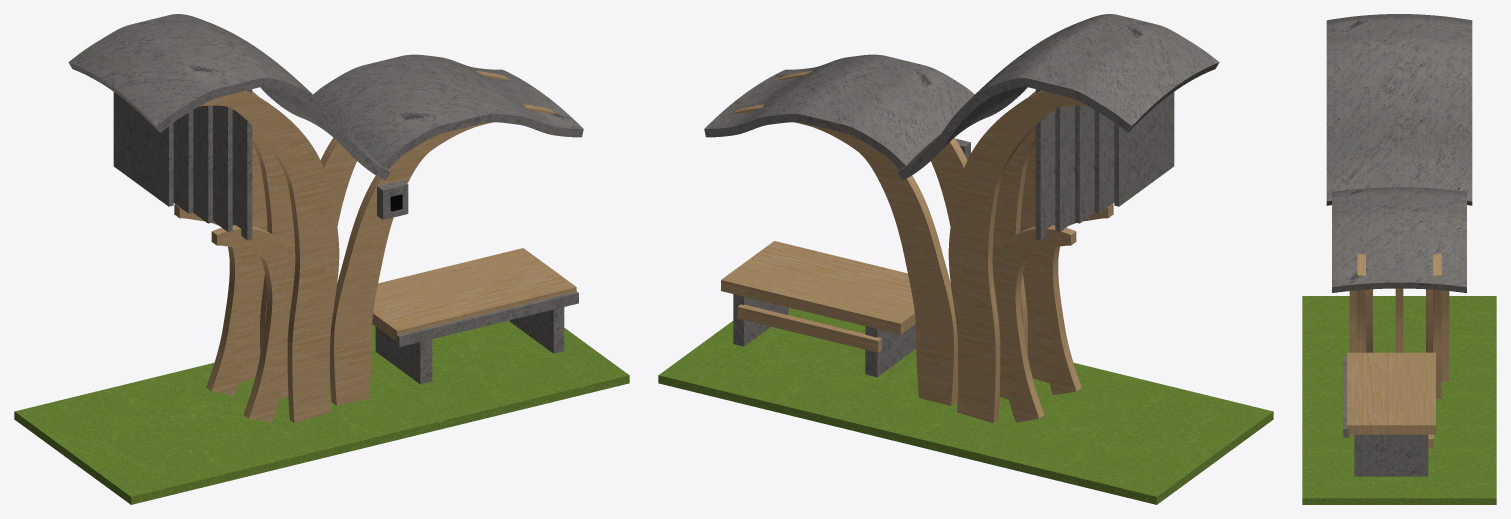
Rendered from SemaModel.glb.
3 renders of one model, left to right at view 1: azimuth 30°, elevation 25°; view 2: azimuth 150°, elevation 25°; view 3: azimuth 270°, elevation 25°, orthographic. The views are drawn at different scales.
Visible parts, largest first — view 1: 00_Presentation_Base, 04_Left_Sweeping_Canopy, 05_Right_Sweeping_Canopy, 01_Left_Tall_Rib_01, 07_Bench_Seat, 02_Right_Arch_Rib_01, 03_Left_Inner_Flared_Rib_01, 03_Left_Inner_Flared_Rib_02, 06_Hanging_Habitat_Lamella_01, 01_Left_Tall_Rib_02, 06_Hanging_Habitat_Lamella_05, 06_Hanging_Habitat_Lamella_04 (+8 smaller); view 2: 00_Presentation_Base, 04_Left_Sweeping_Canopy, 05_Right_Sweeping_Canopy, 01_Left_Tall_Rib_03, 07_Bench_Seat, 02_Right_Arch_Rib_02, 03_Left_Inner_Flared_Rib_02, 03_Left_Inner_Flared_Rib_01, 06_Hanging_Habitat_Lamella_01, 01_Left_Tall_Rib_02, 06_Hanging_Habitat_Lamella_05, 06_Hanging_Habitat_Lamella_04 (+7 smaller); view 3: 00_Presentation_Base, 04_Left_Sweeping_Canopy, 05_Right_Sweeping_Canopy, 07_Bench_Seat, 09_Bench_End_Leg, 02_Right_Arch_Rib_02, 01_Left_Tall_Rib_03, 02_Right_Arch_Rib_01, 01_Left_Tall_Rib_02, 01_Left_Tall_Rib_01, 03_Left_Inner_Flared_Rib_01, 03_Left_Inner_Flared_Rib_02 (+1 smaller).
Part boxes in pixels (<box>): 00_Presentation_Base: <box>14,320,629,504</box>; 04_Left_Sweeping_Canopy: <box>68,14,390,180</box>; 05_Right_Sweeping_Canopy: <box>313,54,583,169</box>; 01_Left_Tall_Rib_01: <box>200,90,339,423</box>; 07_Bench_Seat: <box>372,248,576,341</box>; 02_Right_Arch_Rib_01: <box>330,104,555,405</box>; 03_Left_Inner_Flared_Rib_01: <box>211,225,294,422</box>; 03_Left_Inner_Flared_Rib_02: <box>174,204,258,395</box>; 06_Hanging_Habitat_Lamella_01: <box>113,92,173,206</box>; 01_Left_Tall_Rib_02: <box>252,91,295,399</box>; 06_Hanging_Habitat_Lamella_05: <box>232,89,252,240</box>; 06_Hanging_Habitat_Lamella_04: <box>213,105,232,231</box>; 00_Presentation_Base: <box>658,307,1273,504</box>; 04_Left_Sweeping_Canopy: <box>897,14,1219,180</box>; 05_Right_Sweeping_Canopy: <box>704,54,974,169</box>; 01_Left_Tall_Rib_03: <box>948,90,1087,423</box>; 07_Bench_Seat: <box>721,241,915,334</box>; 02_Right_Arch_Rib_02: <box>732,104,957,405</box>; 03_Left_Inner_Flared_Rib_02: <box>993,225,1076,422</box>; 03_Left_Inner_Flared_Rib_01: <box>1029,204,1113,395</box>; 06_Hanging_Habitat_Lamella_01: <box>1114,92,1174,206</box>; 01_Left_Tall_Rib_02: <box>992,91,1035,399</box>; 06_Hanging_Habitat_Lamella_05: <box>1035,89,1055,240</box>; 06_Hanging_Habitat_Lamella_04: <box>1055,105,1074,231</box>; 00_Presentation_Base: <box>1302,296,1496,504</box>; 04_Left_Sweeping_Canopy: <box>1326,14,1472,205</box>; 05_Right_Sweeping_Canopy: <box>1332,187,1466,292</box>; 07_Bench_Seat: <box>1347,352,1435,434</box>; 09_Bench_End_Leg: <box>1354,434,1428,476</box>; 02_Right_Arch_Rib_02: <box>1433,253,1441,398</box>; 01_Left_Tall_Rib_03: <box>1441,290,1449,381</box>; 02_Right_Arch_Rib_01: <box>1357,253,1365,352</box>; 01_Left_Tall_Rib_02: <box>1395,288,1403,352</box>; 01_Left_Tall_Rib_01: <box>1349,290,1357,352</box>; 03_Left_Inner_Flared_Rib_01: <box>1366,289,1372,352</box>; 03_Left_Inner_Flared_Rib_02: <box>1426,289,1432,352</box>.
Bounding box in the file's own units: 3.55 × 2.64 × 1.44.
4 materials, 3 textured.
